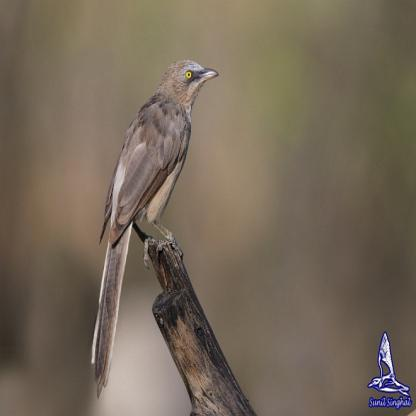Burung: (91, 58, 218, 398)
